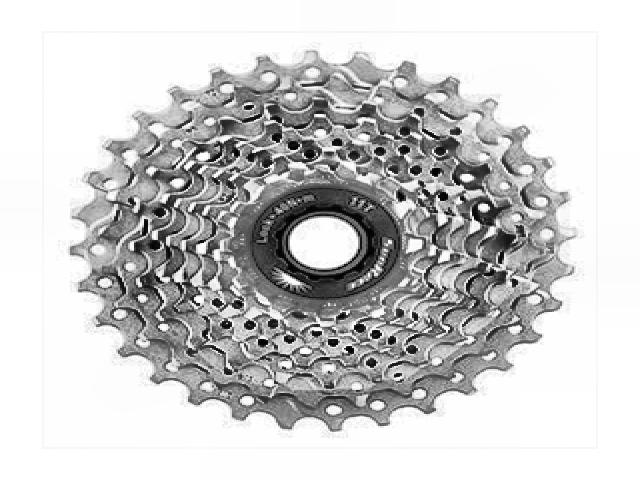cassette: (65, 44, 581, 436)
